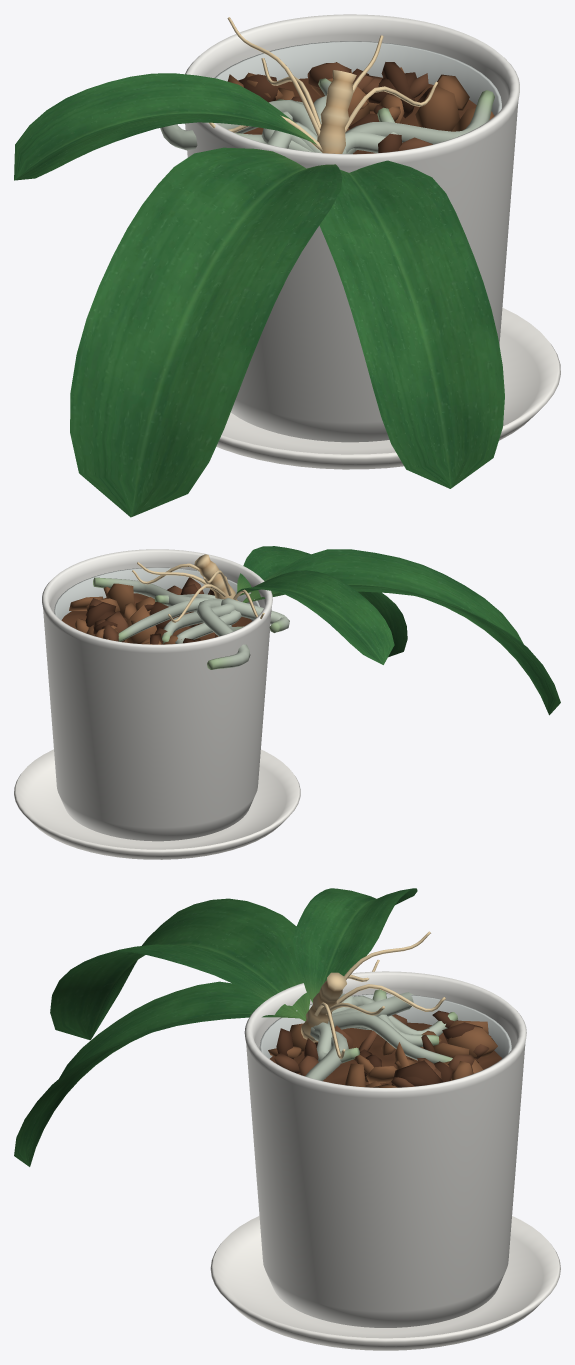
Rendered from orchid-DODT-QIM.glb.
3 renders of one model, top to bottom at view 1: azimuth 30°, elevation 25°; view 2: azimuth 150°, elevation 25°; view 3: azimuth 270°, elevation 25°, orthographic. The views are drawn at different scales.
Visible parts, largest first — view 1: leaf_0, pot, leaf_1, leaf_2, saucer, bark, liner, roots, stub, bark bed; view 2: pot, saucer, leaf_0, roots, leaf_2, bark, leaf_1, liner, stub, bark bed; view 3: pot, leaf_0, saucer, leaf_1, bark, leaf_2, roots, stub, liner, bark bed.
Boxes of the visible parts, x1,y1,x2,y2 form: leaf_0: [70, 147, 342, 517]; pot: [185, 14, 519, 442]; leaf_1: [319, 160, 504, 488]; leaf_2: [14, 73, 316, 180]; saucer: [216, 307, 560, 469]; bark: [227, 62, 494, 152]; liner: [214, 41, 501, 115]; roots: [160, 78, 494, 153]; stub: [209, 17, 437, 153]; bark bed: [243, 76, 476, 154]; pot: [42, 549, 272, 841]; saucer: [14, 749, 300, 859]; leaf_0: [243, 549, 560, 715]; roots: [93, 577, 289, 669]; leaf_2: [236, 570, 394, 664]; bark: [69, 577, 241, 644]; leaf_1: [237, 546, 407, 657]; liner: [54, 567, 259, 620]; stub: [132, 554, 264, 622]; bark bed: [61, 593, 251, 642]; pot: [244, 971, 526, 1327]; leaf_0: [50, 898, 310, 1040]; saucer: [210, 1216, 560, 1350]; leaf_1: [14, 981, 302, 1166]; bark: [268, 1010, 497, 1087]; leaf_2: [293, 888, 417, 1002]; roots: [305, 989, 457, 1080]; stub: [301, 931, 445, 1059]; liner: [259, 993, 511, 1058]; bark bed: [270, 1022, 501, 1084].
Bounding box in the file's own units: 0.2427 × 0.1474 × 0.2248.
7 materials, 1 textured.
